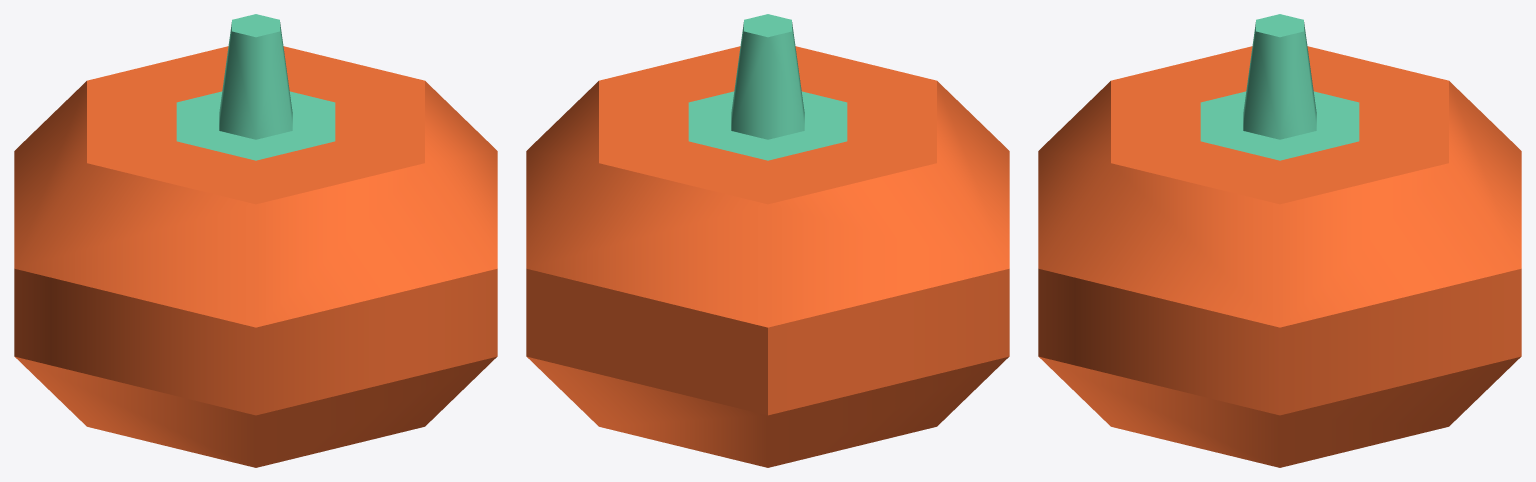
Rendered from Pumpkin Basic.glb.
3 views of the same model, side by side, from view 1: azimuth 30°, elevation 25°; view 2: azimuth 150°, elevation 25°; view 3: azimuth 270°, elevation 25° (orthographic).
Parts seen in each view (by area): view 1: Pumpkin Basic; view 2: Pumpkin Basic; view 3: Pumpkin Basic.
Part boxes in pixels (x1=…): Pumpkin Basic: x1=14, y1=14, x2=497, y2=467; Pumpkin Basic: x1=526, y1=14, x2=1009, y2=467; Pumpkin Basic: x1=1038, y1=14, x2=1521, y2=467.
Size of the model in its own units: 0.42 by 0.299 by 0.3637.
